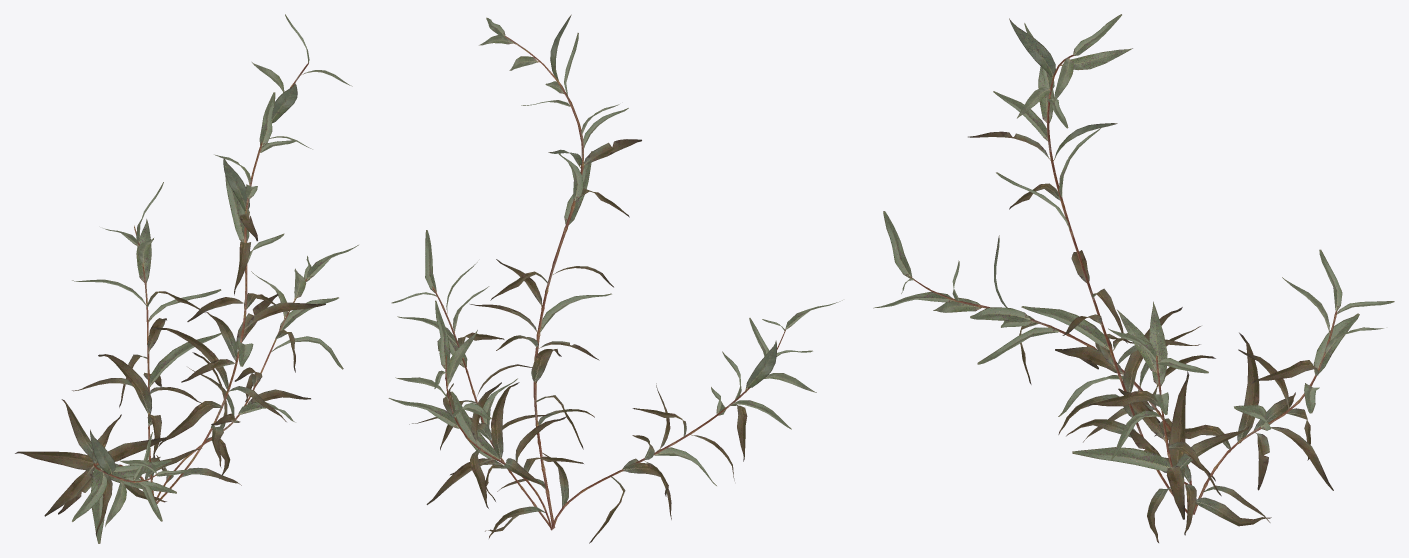
Rendered from natural-shrub-quiet.glb.
3 views of the same model, side by side, from view 1: azimuth 30°, elevation 25°; view 2: azimuth 150°, elevation 25°; view 3: azimuth 270°, elevation 25° (orthographic). The views are drawn at different scales.
Visible parts, largest first — view 1: natural-shrub-quiet runtime mesh; view 2: natural-shrub-quiet runtime mesh; view 3: natural-shrub-quiet runtime mesh.
Boxes of the visible parts, x1,y1,x2,y2 form: natural-shrub-quiet runtime mesh: (15, 14, 358, 543); natural-shrub-quiet runtime mesh: (388, 14, 842, 543); natural-shrub-quiet runtime mesh: (873, 14, 1394, 542).
Size of the model in its own units: 0.6633 by 0.9 by 0.7647.
1 material, 1 textured.
